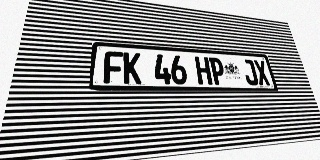4: (153, 54, 172, 84)
6: (170, 55, 188, 84)
F: (103, 51, 123, 84)
H: (194, 56, 213, 85)
J: (241, 59, 259, 85)
K: (123, 52, 141, 84)
P: (208, 57, 227, 85)
X: (253, 60, 271, 85)
